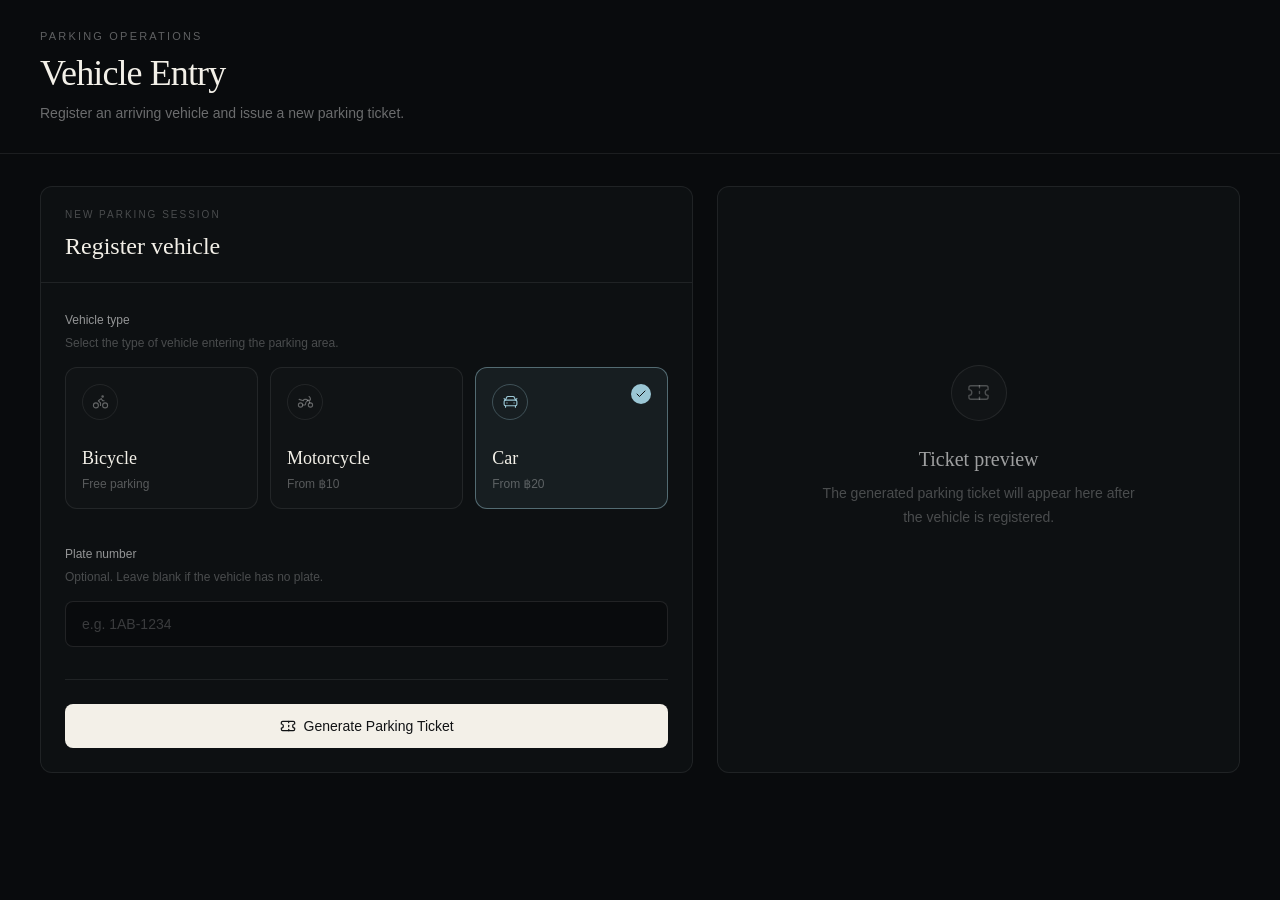
Vehicle Entry page › creates and displays a parking ticket
The width and height of the screenshot is (1280, 900).
Type "1AB-1234" into the field labelled "Plate number" at (367, 624), box [65,600,668,646]
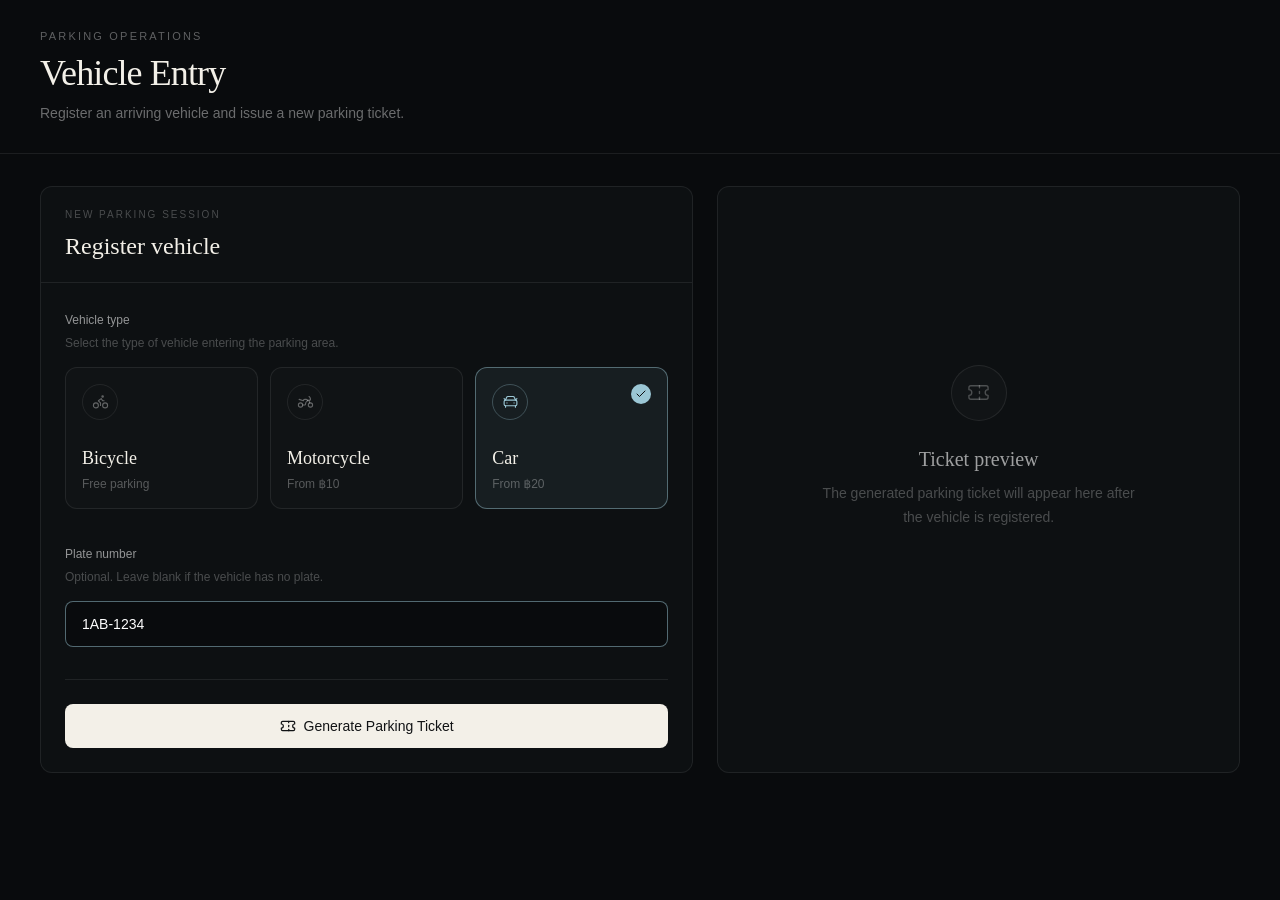
Click the button "Generate Parking Ticket" at (367, 726), box [65,704,668,748]
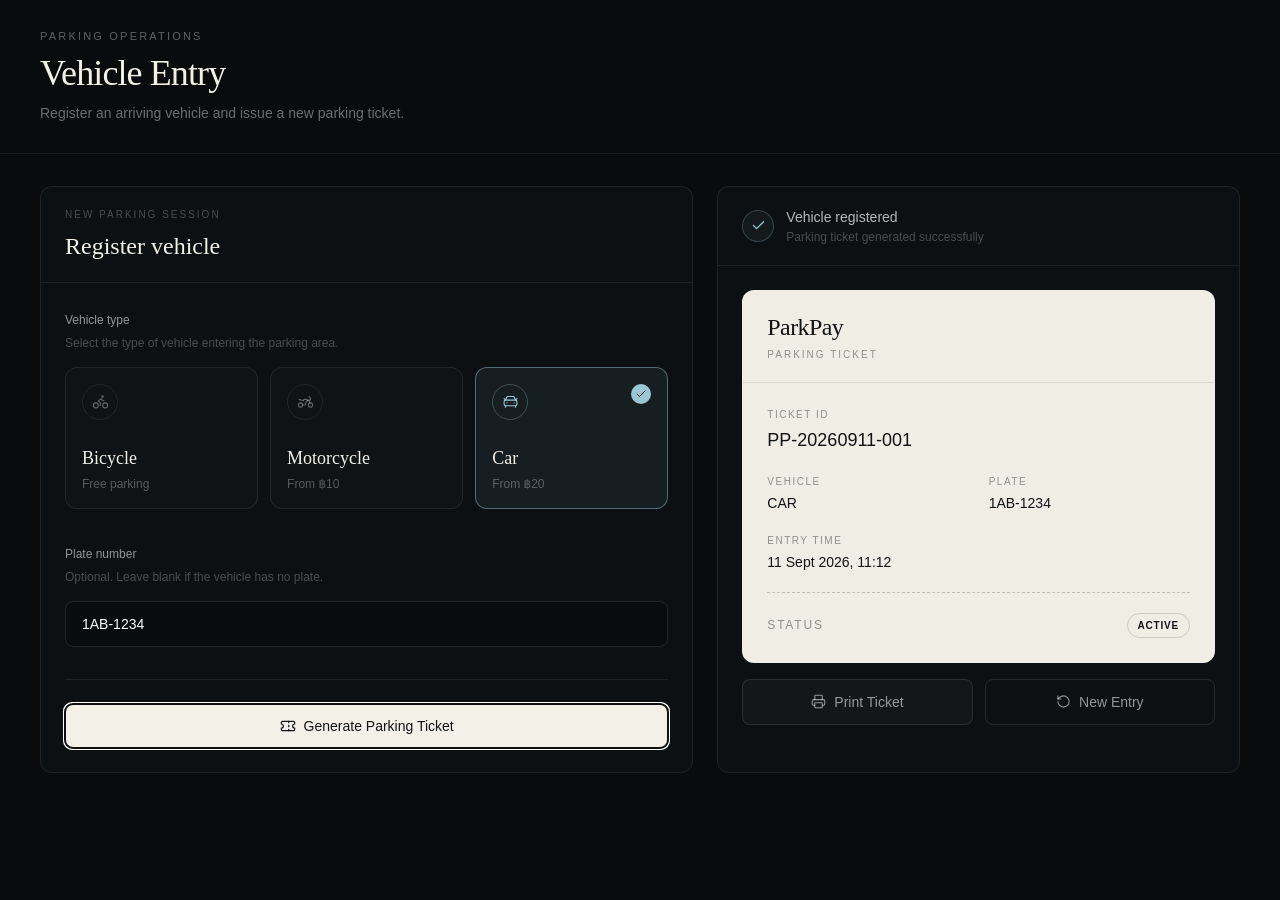
expect the text "Vehicle registered" is shown: met, box [786,208,898,224]
expect the text "1AB-1234" is shown: met, box [989,494,1051,510]
expect the text "ACTIVE" is shown: met, box [1126,612,1190,638]
